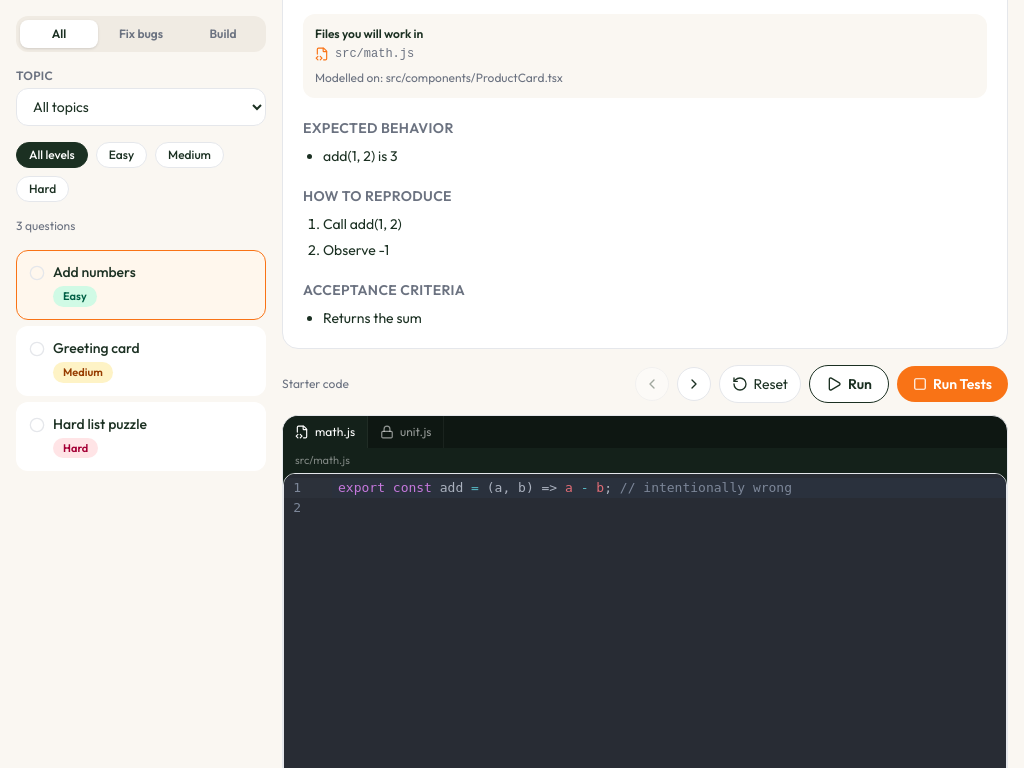
attempted vs solved tracking › running the tests counts as an attempt
(page scrolled)
Click the button "Run Tests": [952, 384] box [897,366,1008,402]
(page scrolled)
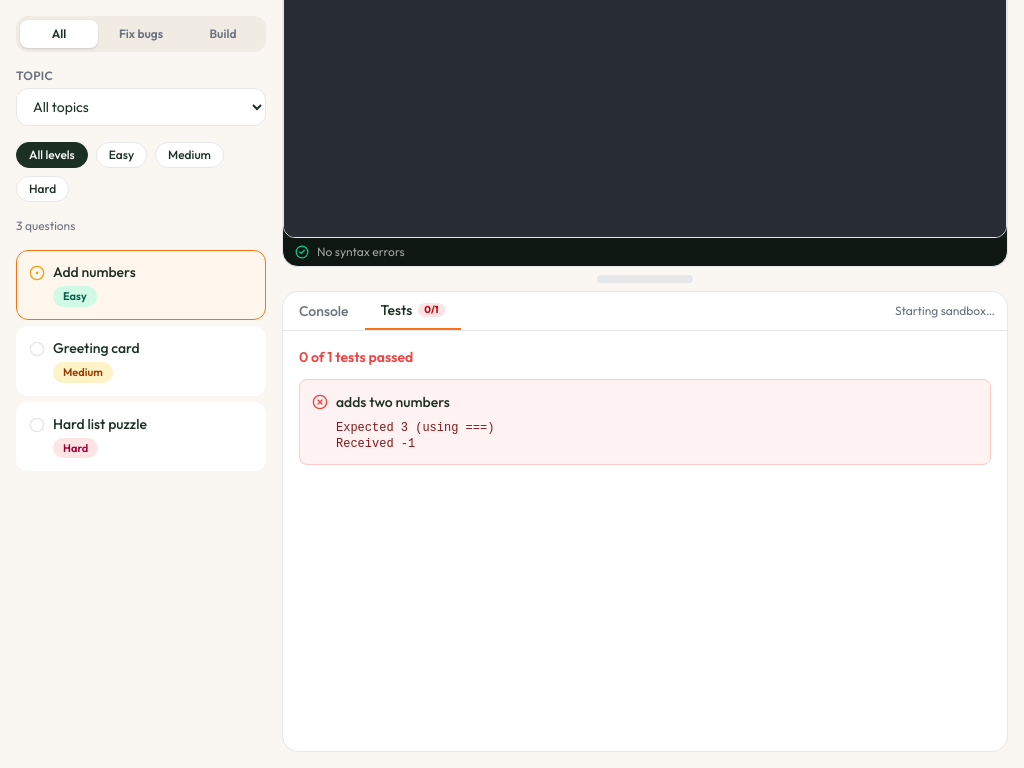
Expected: the element with test id "results" is shown, [283,331,1007,481]
